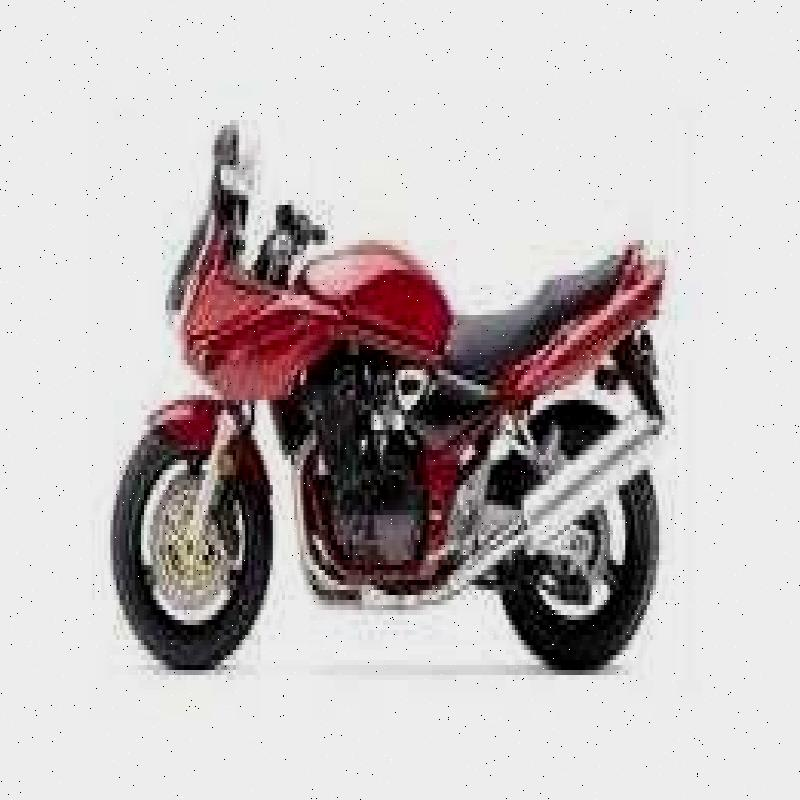bike: (121, 83, 678, 678)
